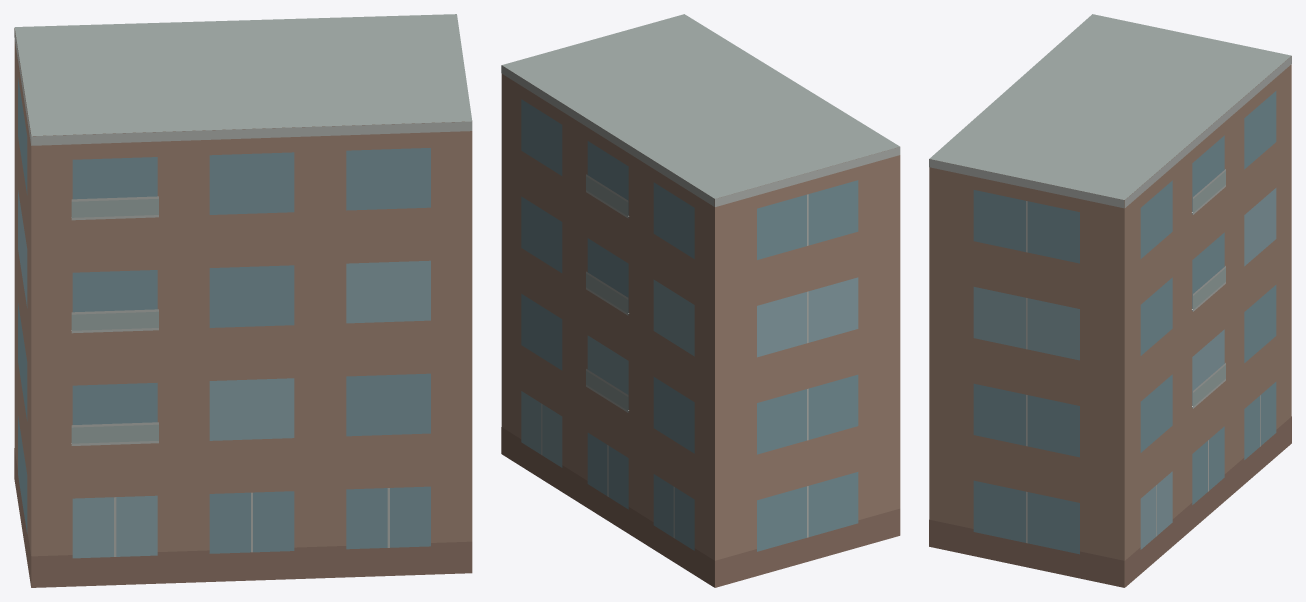
The model's file is survey-upis-32734763.glb.
3 views of the same model, side by side, from view 1: azimuth 30°, elevation 25°; view 2: azimuth 150°, elevation 25°; view 3: azimuth 270°, elevation 25° (orthographic). The views are drawn at different scales.
Visible parts, largest first — view 1: survey-upis-32734763.tmp; view 2: survey-upis-32734763.tmp; view 3: survey-upis-32734763.tmp.
Part boxes in pixels (x1,y1,x2,y2): survey-upis-32734763.tmp: (14, 14, 472, 587); survey-upis-32734763.tmp: (501, 14, 900, 587); survey-upis-32734763.tmp: (929, 14, 1291, 587).
Bounding box in the file's own units: 11.75 × 11.4 × 9.67.
